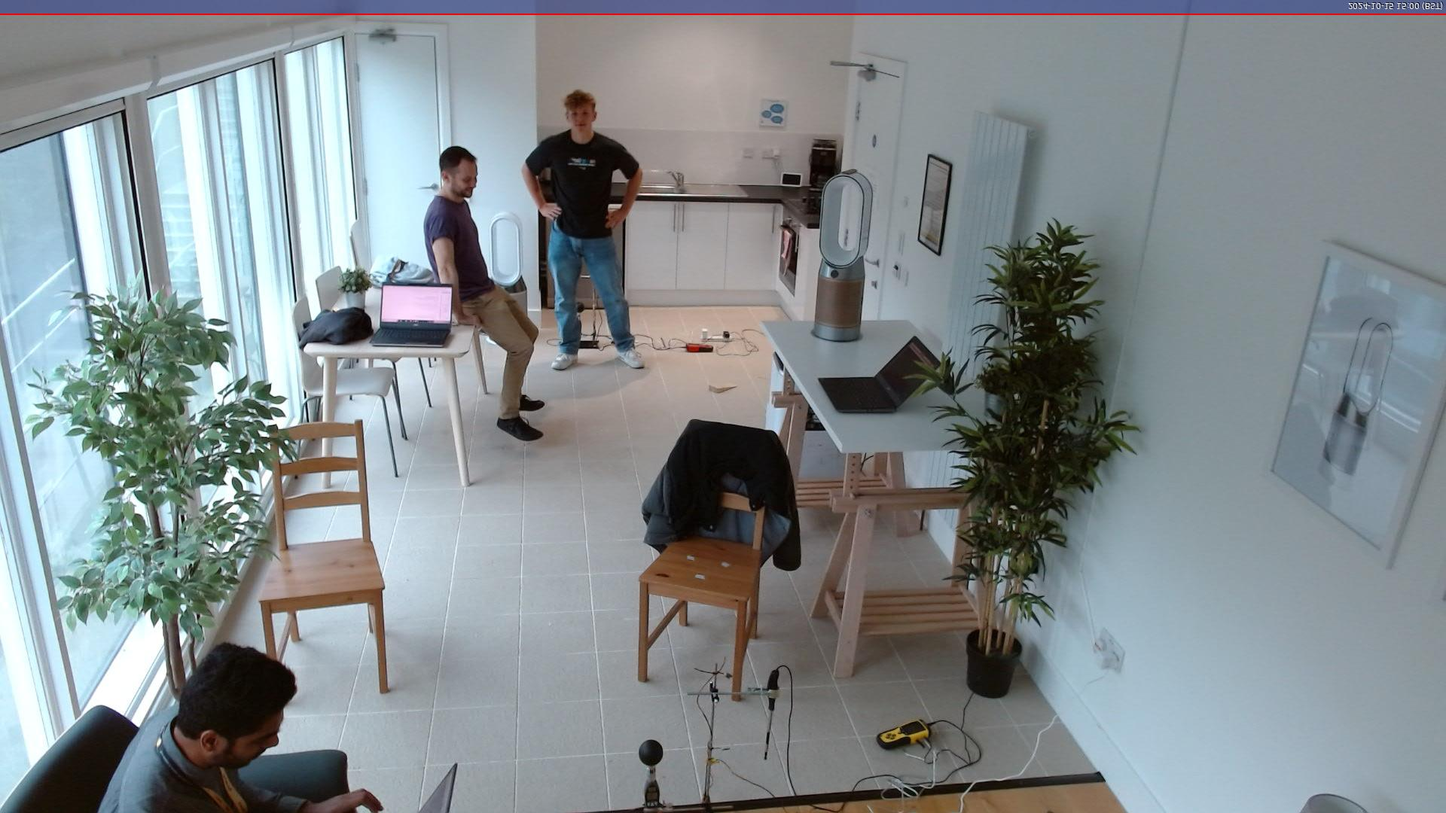long sleeve shirt: (115, 693, 310, 813)
short sleeve shirt: (525, 130, 644, 241), (421, 194, 497, 298)
trousers: (547, 222, 638, 358), (460, 287, 541, 420)
